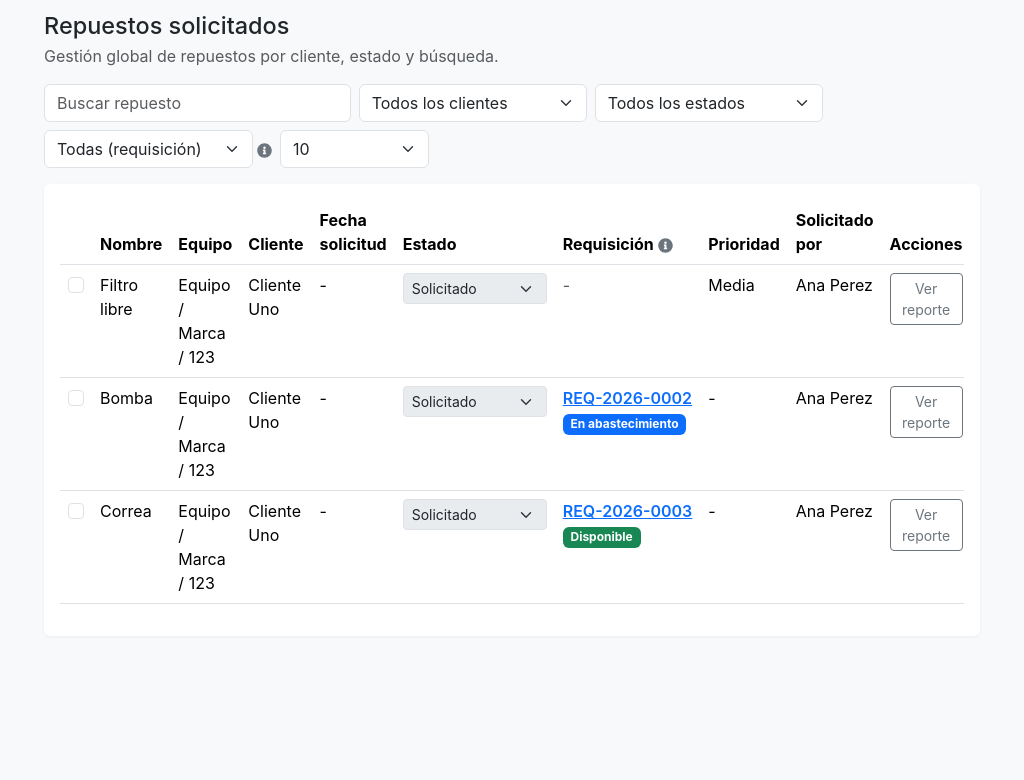
Scenario: RepuestosSolicitadosPage (module on) › explains that unlinked rows need a requisition first
Click the checkbox in the row of "Media" at (76, 285), box [68,277,84,293]
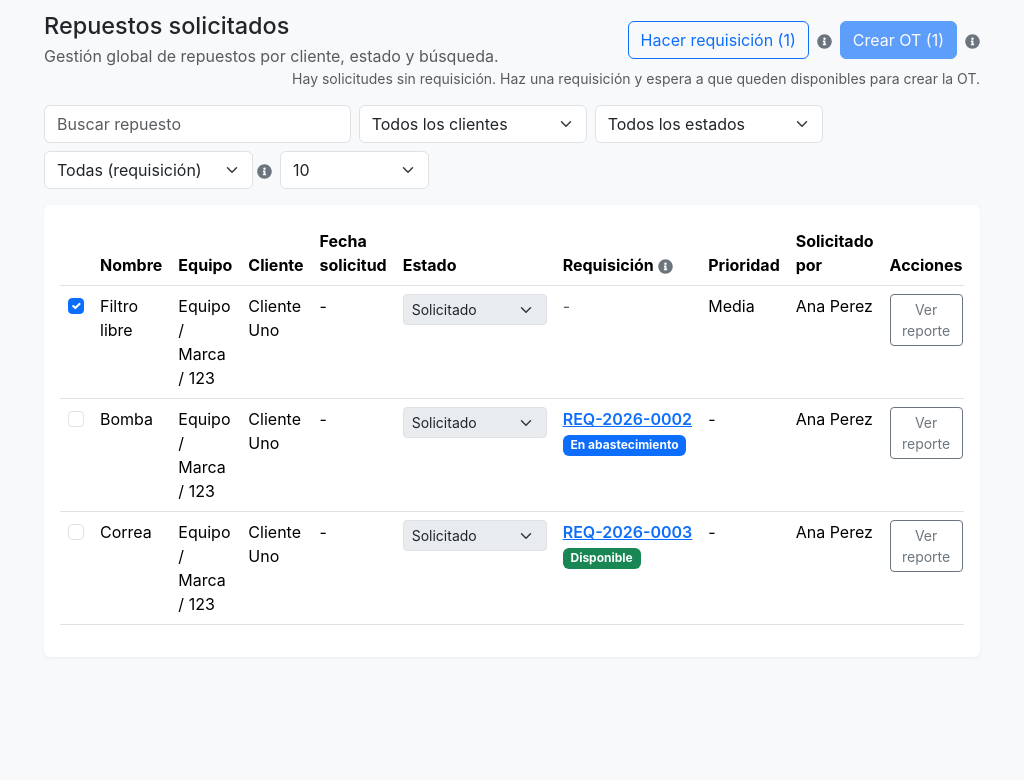
Check: the button "Crear OT (1)" is disabled, box [840,21,957,59]
Check: the text "Hay solicitudes sin requisición" is shown, box [292,70,980,87]
